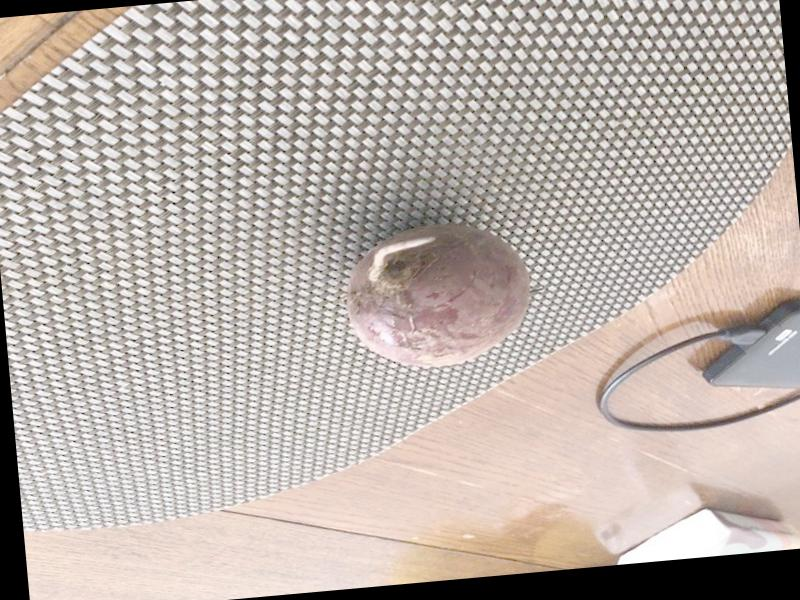Beet: (341, 217, 536, 373)
